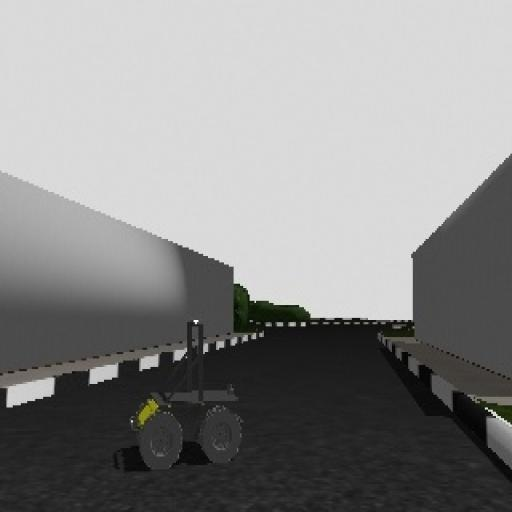huskya200: (116, 294, 274, 494)
